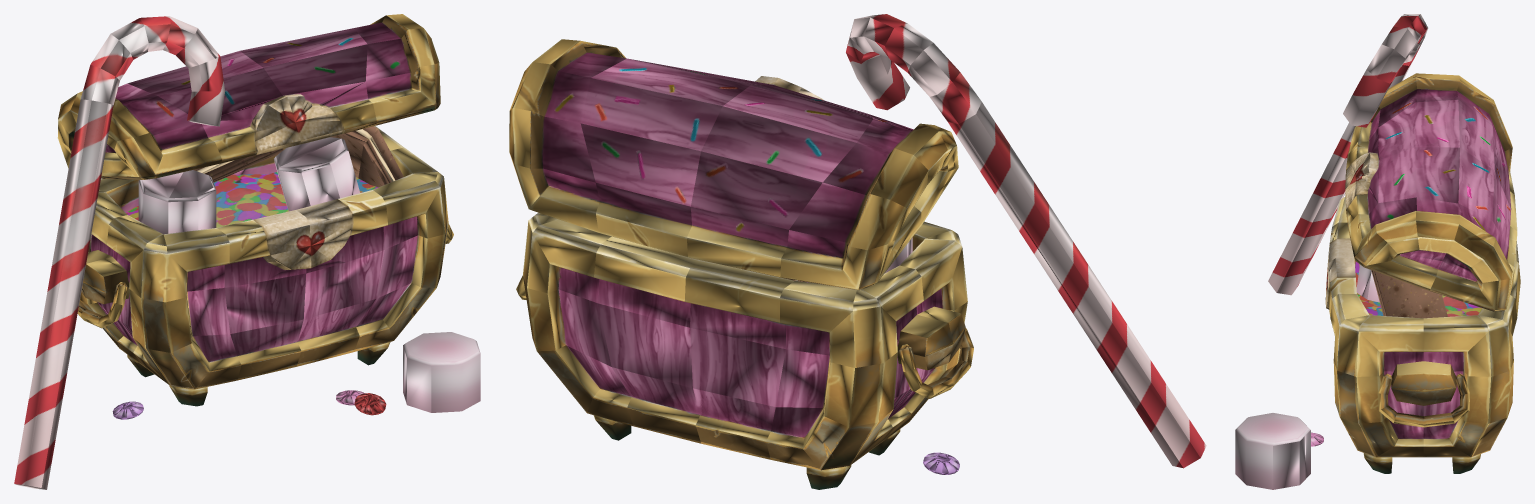
File: chest.fbx
3 views of the same model, side by side, from view 1: azimuth 30°, elevation 25°; view 2: azimuth 150°, elevation 25°; view 3: azimuth 270°, elevation 25° (orthographic). The views are drawn at different scales.
Visible parts, largest first — view 1: Chest Base, Chest Lid, Candycane, Marshmallows, Biscuits, Candies; view 2: Chest Base, Chest Lid, Candycane; view 3: Chest Lid, Chest Base, Candycane, Marshmallows, Biscuits.
Part boxes in pixels (<box>): Chest Base: <box>77,126,453,406</box>; Chest Lid: <box>57,14,440,179</box>; Candycane: <box>14,16,225,489</box>; Marshmallows: <box>138,137,480,412</box>; Biscuits: <box>193,126,403,187</box>; Candies: <box>112,390,386,419</box>; Chest Base: <box>516,212,973,489</box>; Chest Lid: <box>509,39,958,290</box>; Candycane: <box>846,14,1206,468</box>; Chest Lid: <box>1345,73,1517,311</box>; Chest Base: <box>1325,197,1520,473</box>; Candycane: <box>1268,14,1428,295</box>; Marshmallows: <box>1235,264,1379,489</box>; Biscuits: <box>1371,270,1447,318</box>.
Bounding box in the file's own units: 99.21 × 73.11 × 52.85.
Materials: 2 (2 with a texture image).
